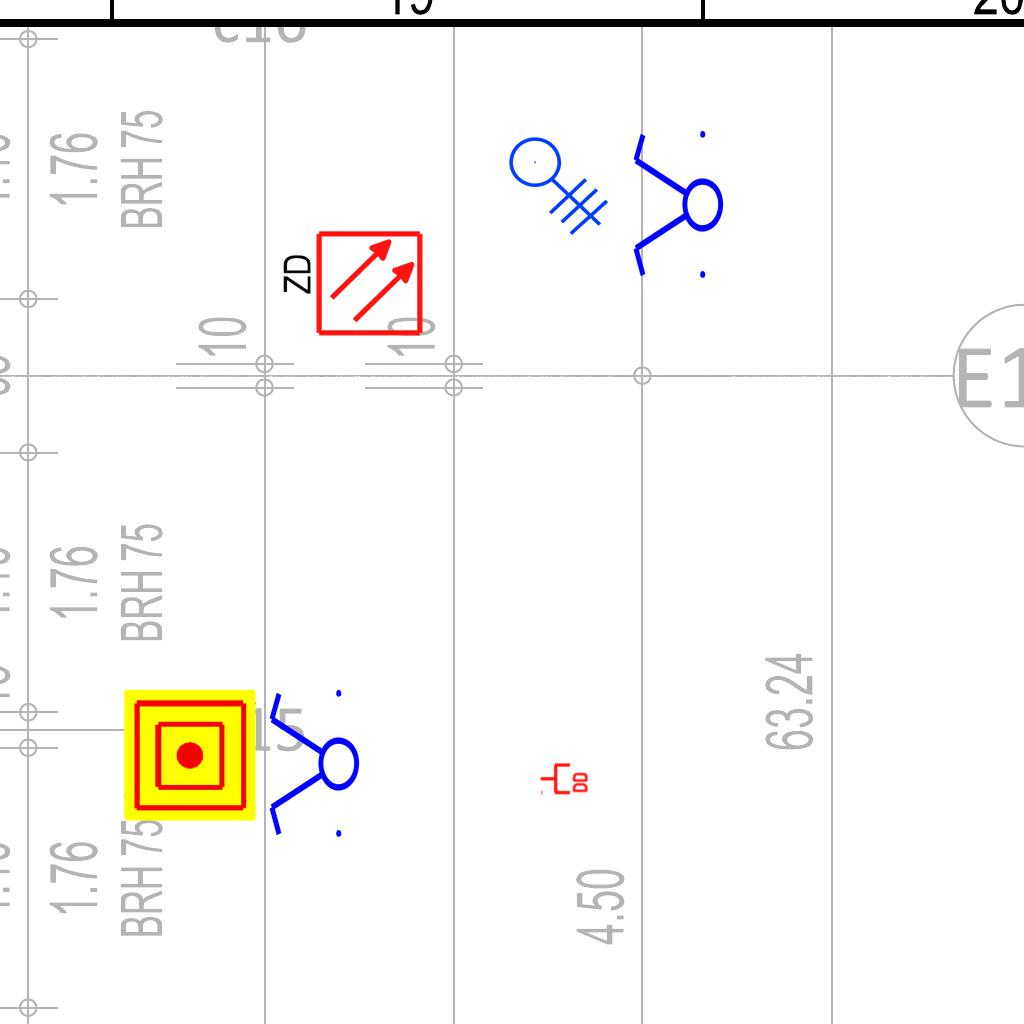Datenanschluss_zweifach: (539, 761, 590, 795)
Elektroanschluss_allgemein_400V_Geraeteanschlussdose_400V: (508, 120, 621, 236)
NAM-Nichtautomatischer_Melder: (124, 689, 256, 821)
Serienschalter: (629, 122, 725, 290), (265, 681, 361, 849)
ZD_Melder_in_Zwischendecke_mit_Revisionsoeffnung_mind_40_x_40_cm: (276, 228, 425, 342)
